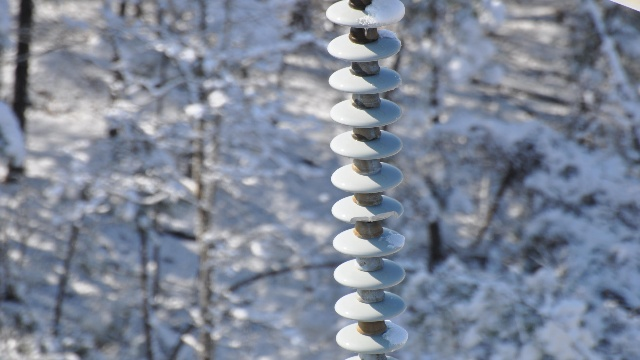broken_local: (347, 209, 401, 224)
insulator_unspecified: (326, 0, 410, 358)
